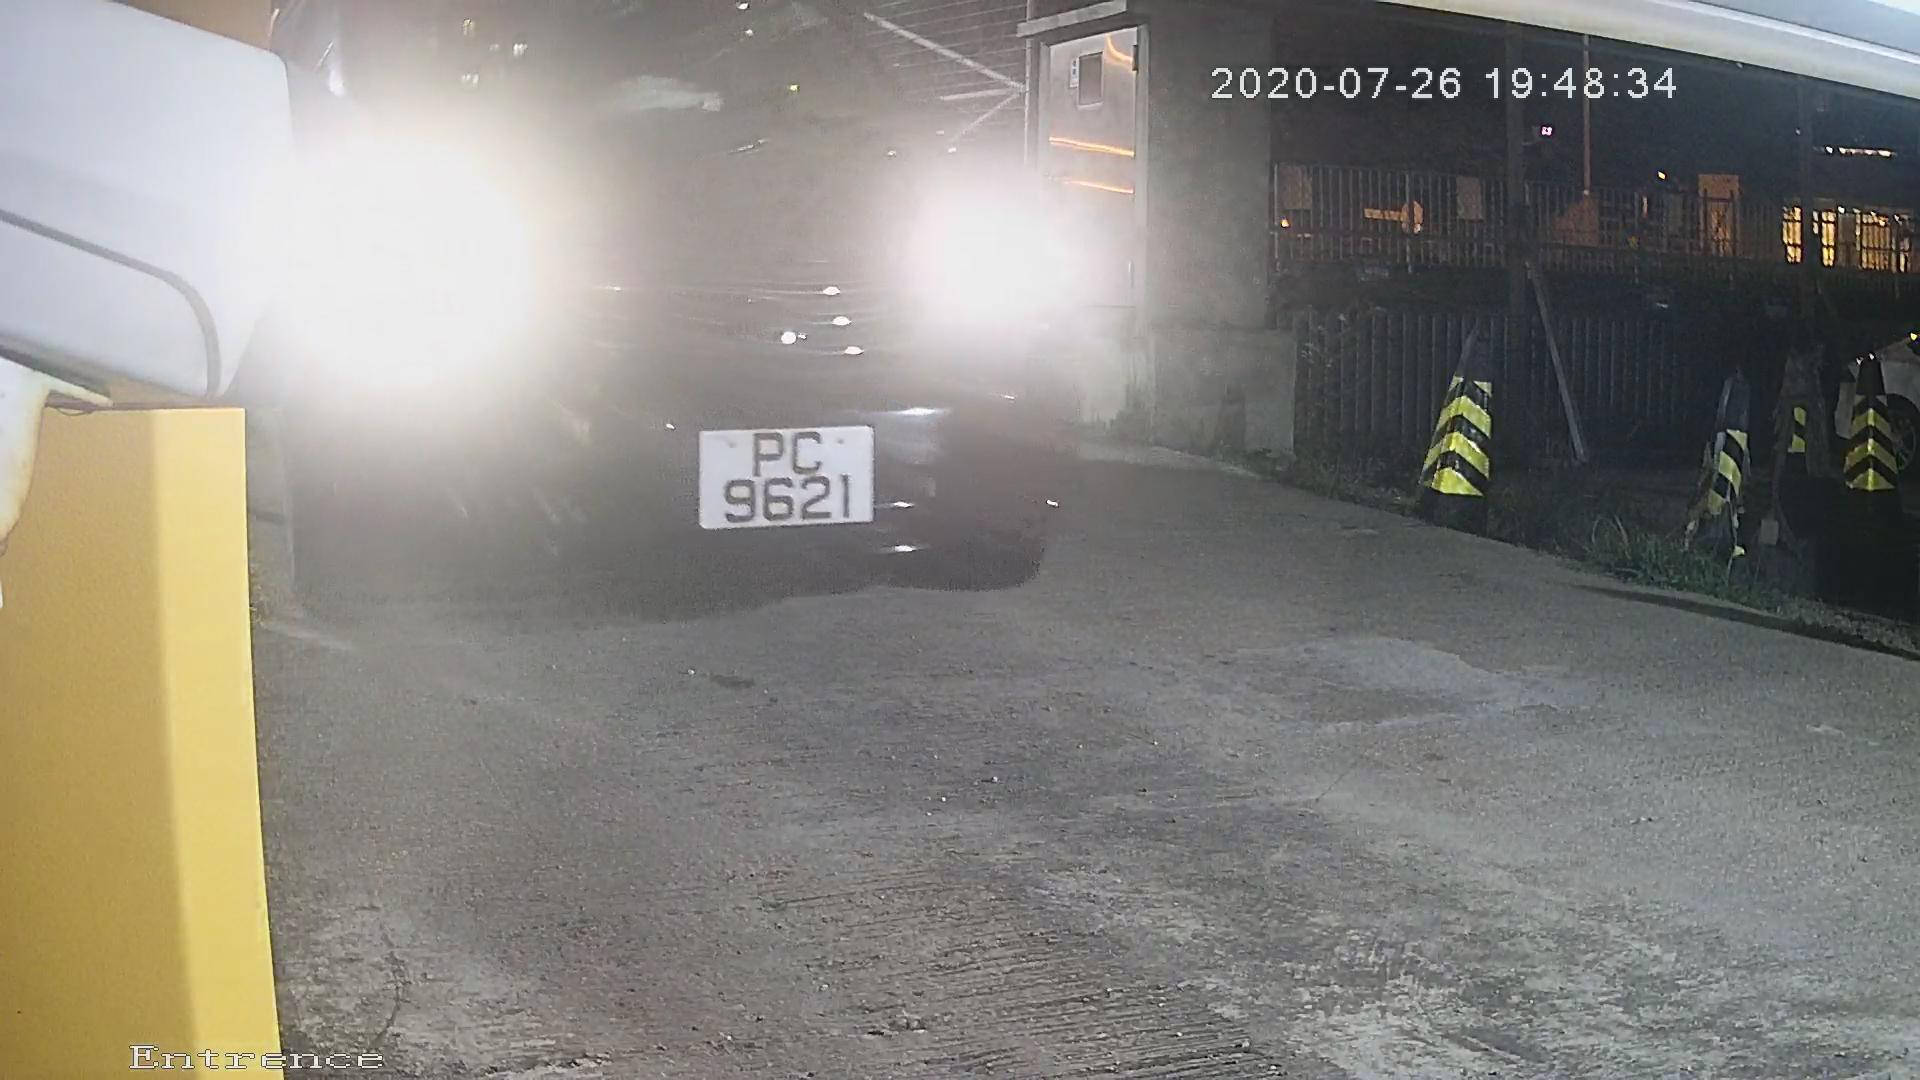License Plate: (652, 396, 892, 541)
